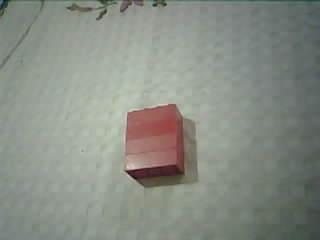lego: (119, 103, 184, 178)
